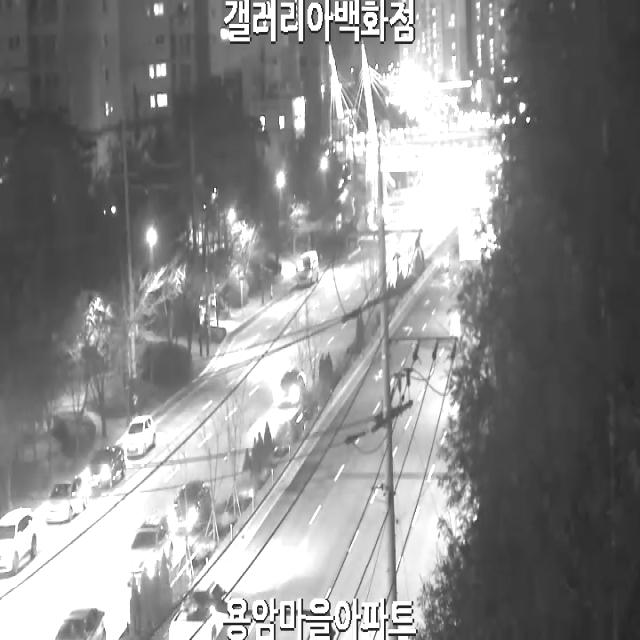Bus: (296, 250, 319, 288)
Car: (128, 516, 173, 584), (0, 506, 38, 576), (173, 480, 212, 536), (44, 476, 89, 522), (54, 606, 107, 640), (89, 446, 126, 490), (126, 414, 156, 458), (275, 368, 307, 408)
